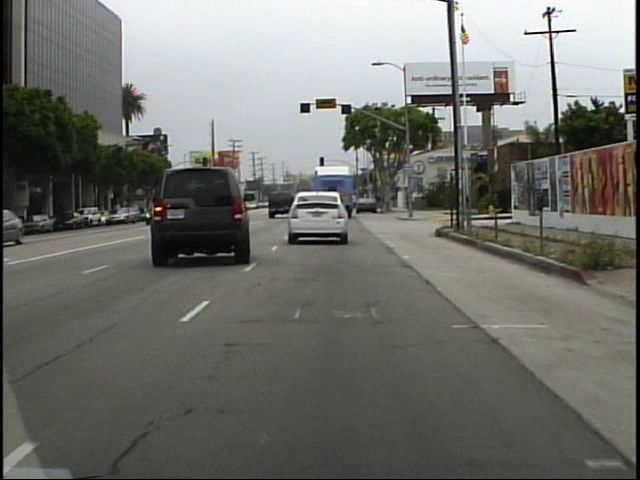person: (402, 189, 412, 214), (413, 187, 414, 214)
